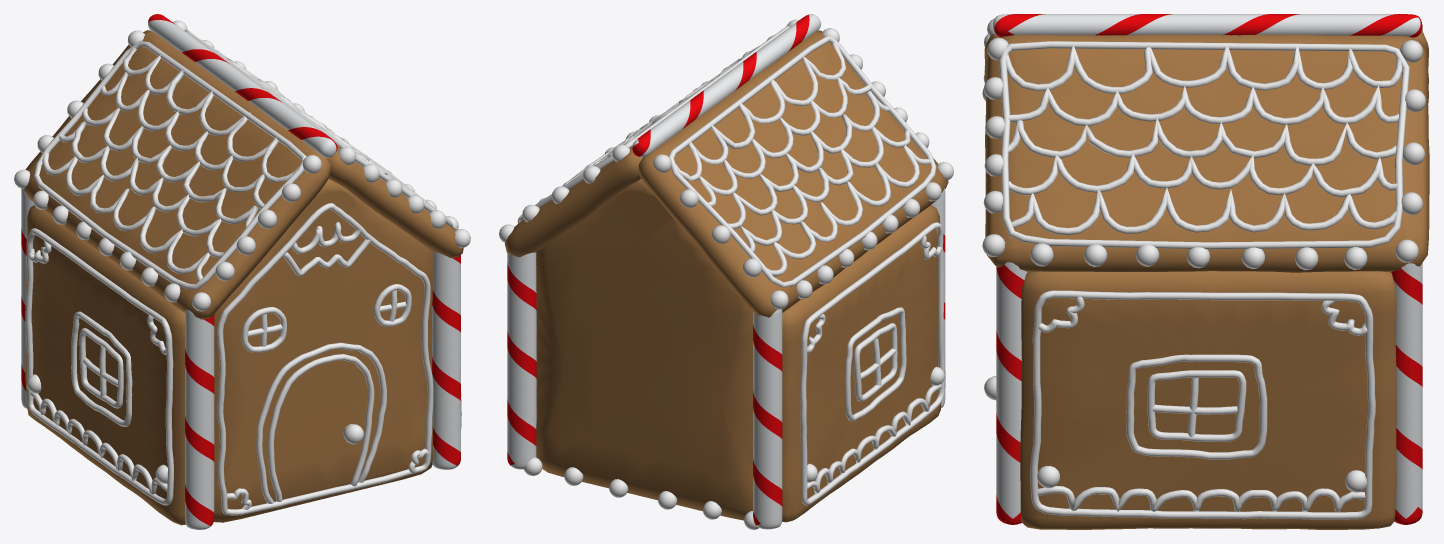
Rendered from GingerbreadHouse.fbx.
The picture shows the model from 3 angles, left to right: view 1: azimuth 30°, elevation 25°; view 2: azimuth 150°, elevation 25°; view 3: azimuth 270°, elevation 25°; orthographic projection. The views are drawn at different scales.
Visible parts, largest first — view 1: Cube.004, Cube.001, Cube.003, Simple_GPencil, GPencil, GPencil.001, Cylinder.002, Cylinder.001, Cylinder, Cylinder.004, Roundcube, Roundcube.005 (+4 smaller); view 2: Cube.004, Cube.001, Cube.003, Simple_GPencil, GPencil.001, Cylinder.004, Cylinder.003, Cylinder, Cylinder.002, Roundcube.020, Roundcube.019, Roundcube.016; view 3: Cube.003, Cube.001, Simple_GPencil, GPencil.001, Cylinder, Cylinder.003, Cylinder.001.
Part boxes in pixels (<box>): Cube.004: <box>214,179,433,522</box>; Cube.001: <box>23,30,463,319</box>; Cube.003: <box>25,205,185,525</box>; Simple_GPencil: <box>34,30,453,289</box>; GPencil: <box>217,203,433,515</box>; GPencil.001: <box>25,228,461,505</box>; Cylinder.002: <box>185,309,214,529</box>; Cylinder.001: <box>432,251,460,469</box>; Cylinder: <box>148,14,337,157</box>; Cylinder.004: <box>21,188,33,408</box>; Roundcube: <box>302,146,356,173</box>; Roundcube.005: <box>192,229,470,311</box>; Cube.004: <box>536,179,752,520</box>; Cube.001: <box>505,30,948,317</box>; Cube.003: <box>782,205,941,522</box>; Simple_GPencil: <box>518,26,936,287</box>; GPencil.001: <box>800,222,944,505</box>; Cylinder.004: <box>753,309,782,529</box>; Cylinder.003: <box>507,252,536,469</box>; Cylinder: <box>632,14,821,157</box>; Cylinder.002: <box>931,188,945,407</box>; Roundcube.020: <box>609,479,677,509</box>; Roundcube.019: <box>564,467,721,519</box>; Roundcube.016: <box>583,165,698,207</box>; Cube.003: <box>1020,271,1396,529</box>; Cube.001: <box>984,30,1429,272</box>; Simple_GPencil: <box>999,41,1409,249</box>; GPencil.001: <box>1030,290,1375,519</box>; Cylinder: <box>993,14,1422,37</box>; Cylinder.003: <box>1391,263,1422,524</box>; Cylinder.001: <box>996,262,1027,524</box>.
Bounding box in the file's own units: 221 × 255 × 233.
